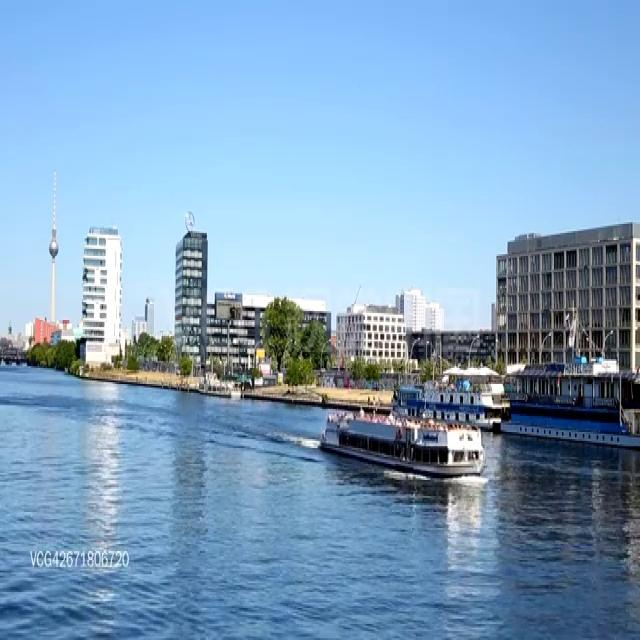passenger ship: (315, 399, 486, 478), (498, 354, 638, 448), (388, 378, 497, 423), (196, 372, 243, 398)
